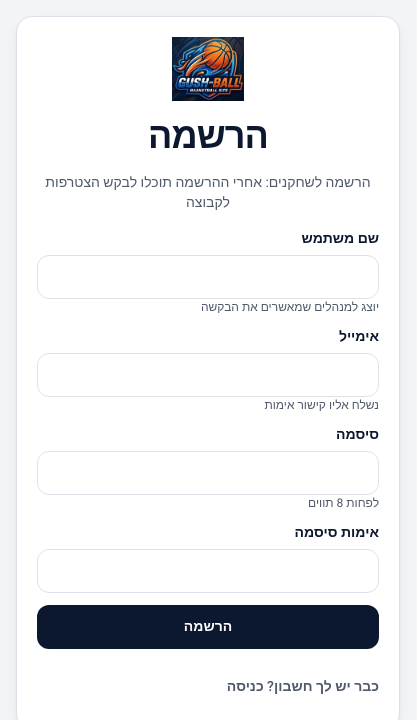
SignupView › 409 shows the server message on the username field
The image size is (417, 720).
Type "dana" into the field with id "username" at (208, 277), box [37,255,379,299]
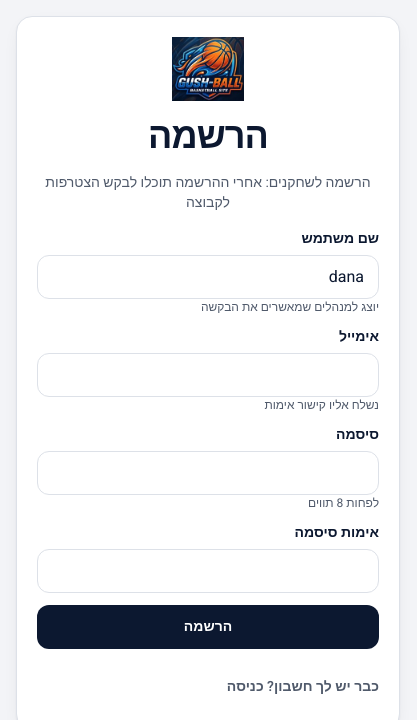
Type "d@x.com" into the field with id "email" at (208, 375), box [37,353,379,397]
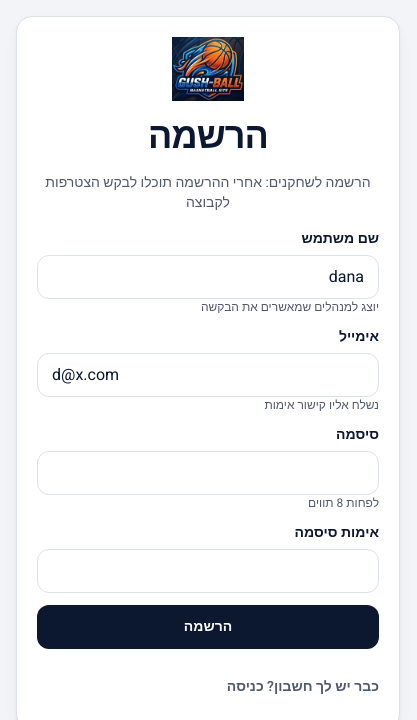
Type "password123" into the password field labelled "סיסמה" at (208, 473), box [37,451,379,495]
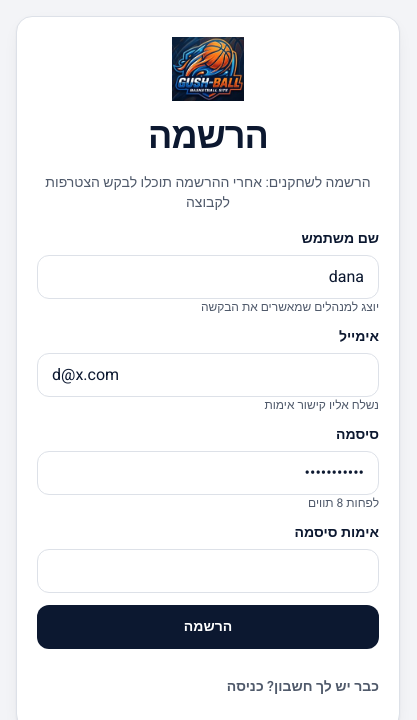
Type "password123" into the password field labelled "אימות סיסמה" at (208, 571), box [37,549,379,593]
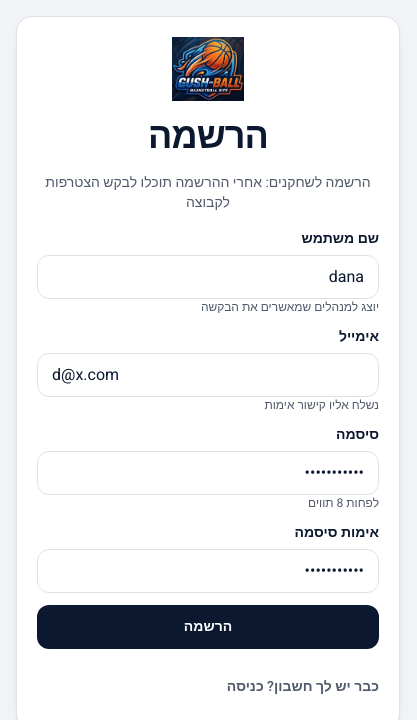
Submit the form, box [37,229,379,649]
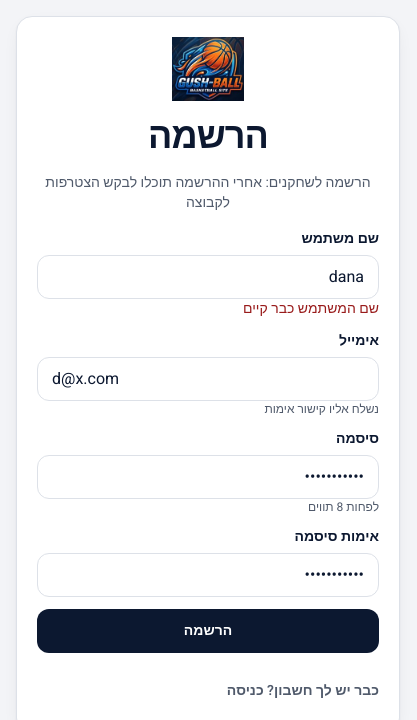
Expected: the text with id "username-error" reads "שם המשתמש כבר קיים", [243,298,379,319]
